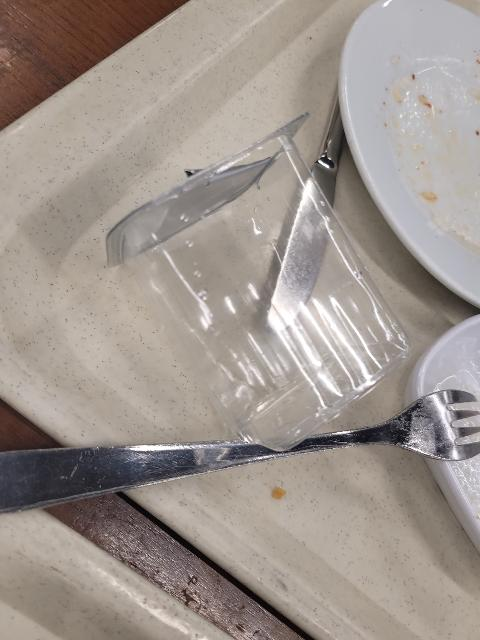Plastik: (99, 119, 418, 453)
